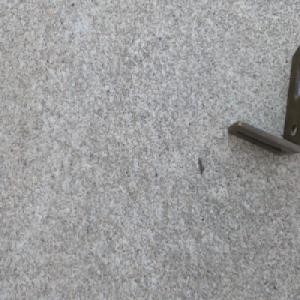MetalPart: (226, 41, 300, 160)
